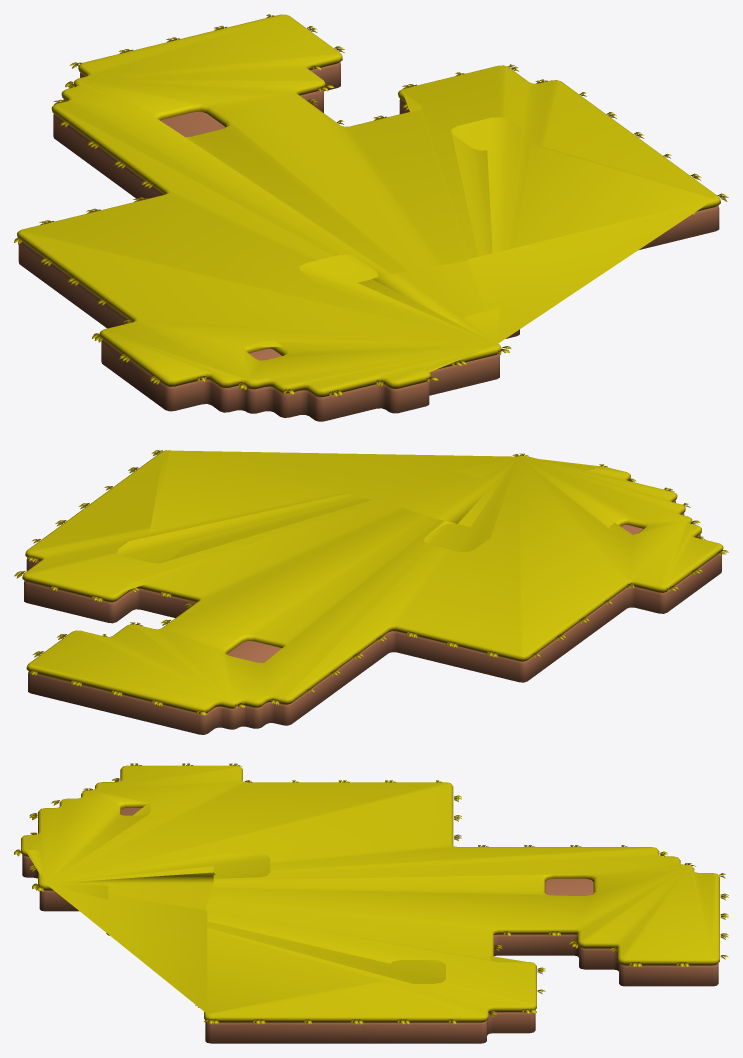
Rendered from Map.fbx.
The picture shows the model from 3 angles, top to bottom: view 1: azimuth 30°, elevation 25°; view 2: azimuth 150°, elevation 25°; view 3: azimuth 270°, elevation 25°; orthographic projection. The views are drawn at different scales.
Visible parts, largest first — view 1: Base; view 2: Base; view 3: Base.
Boxes of the visible parts, box(x1,y1,x2,y2) form: Base: box(14, 14, 728, 421); Base: box(14, 450, 728, 734); Base: box(14, 763, 728, 1043).
Bounding box in the file's own units: 8651 × 416 × 10032.
